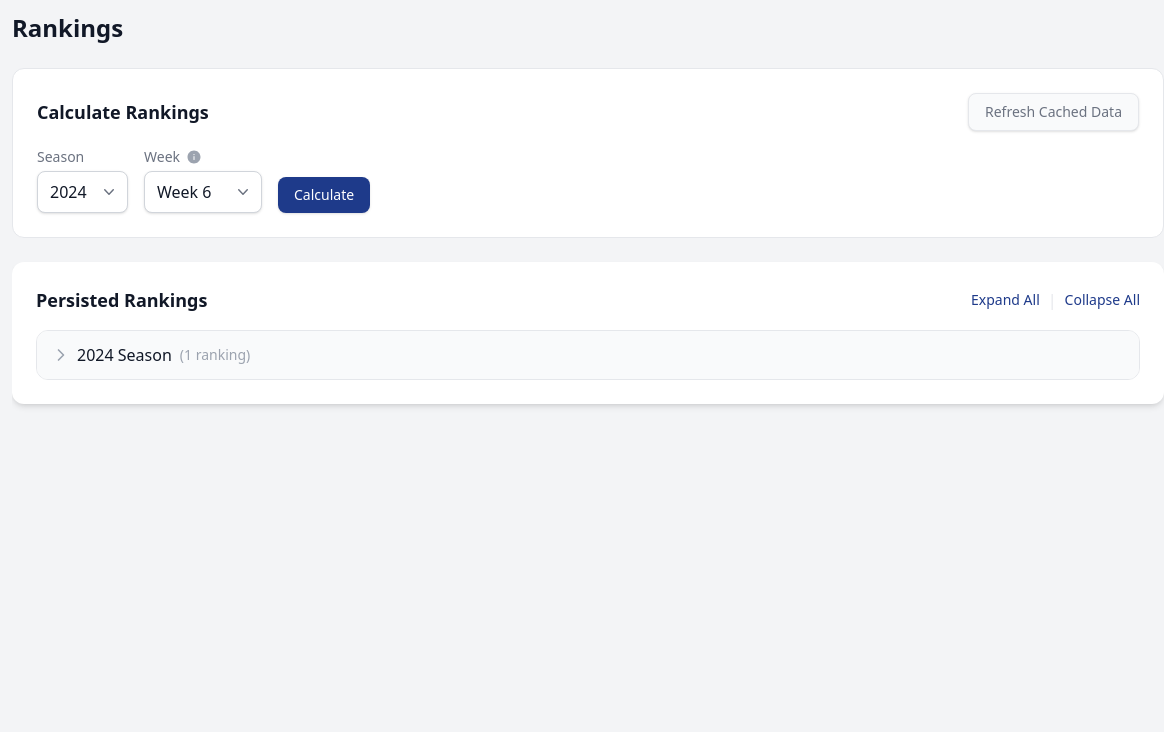
RankingsSnapshotsPage › shows error when delete fails
The width and height of the screenshot is (1164, 732).
What coordinates should you click on to do the following:
click the text "2024 Season"
I would click on:
 (124, 355)
Its box is [77,343,172,367].
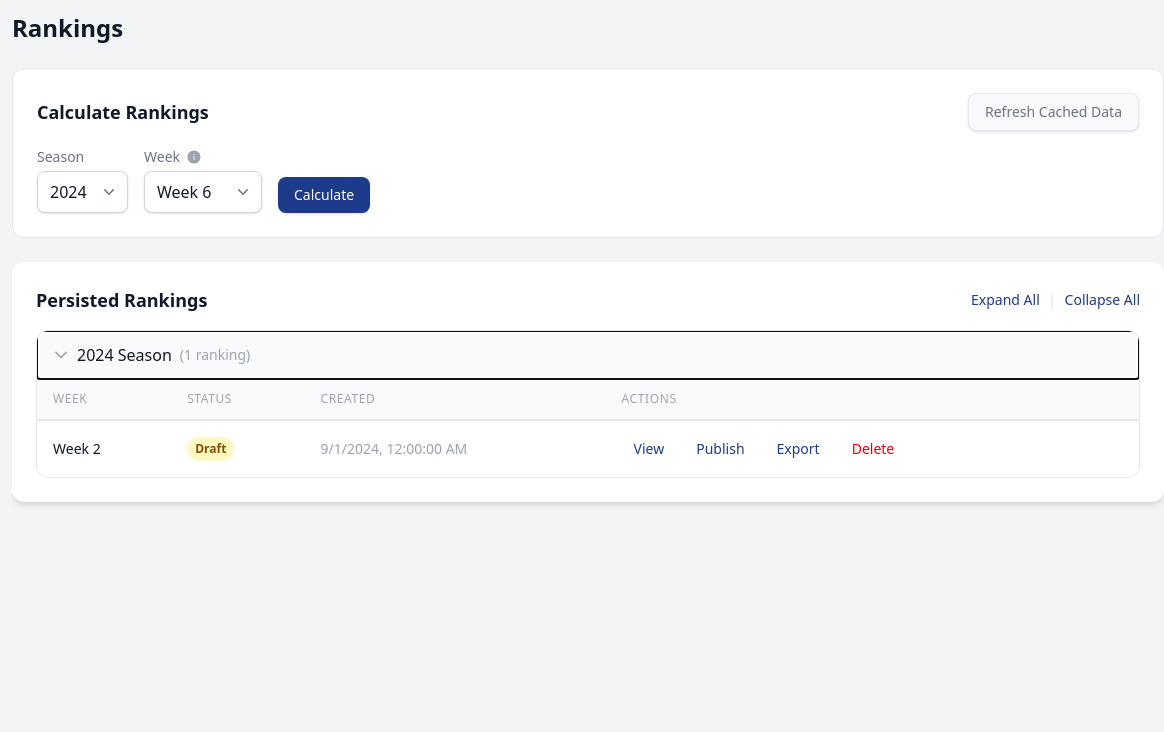
What coordinates should you click on to do the following:
click the button "Delete"
I would click on:
 (873, 449)
Its box is [840,433,906,465].
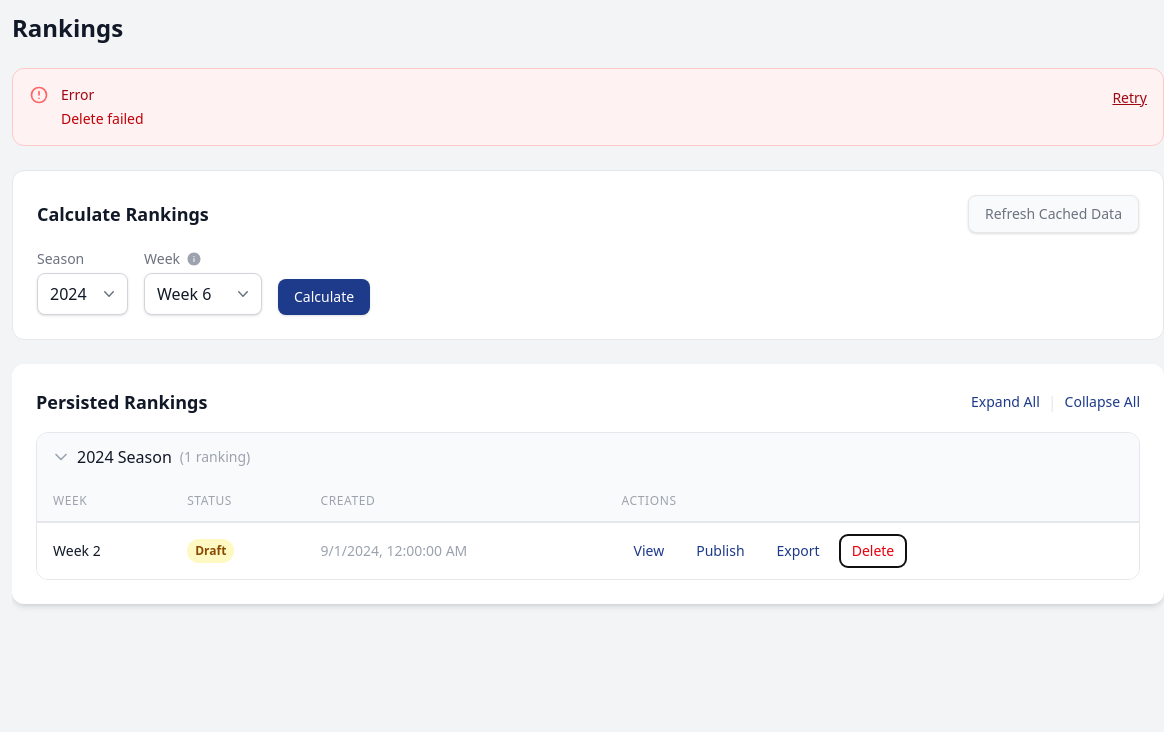
Check: the text "Delete failed" is shown, box [61,109,144,128]
